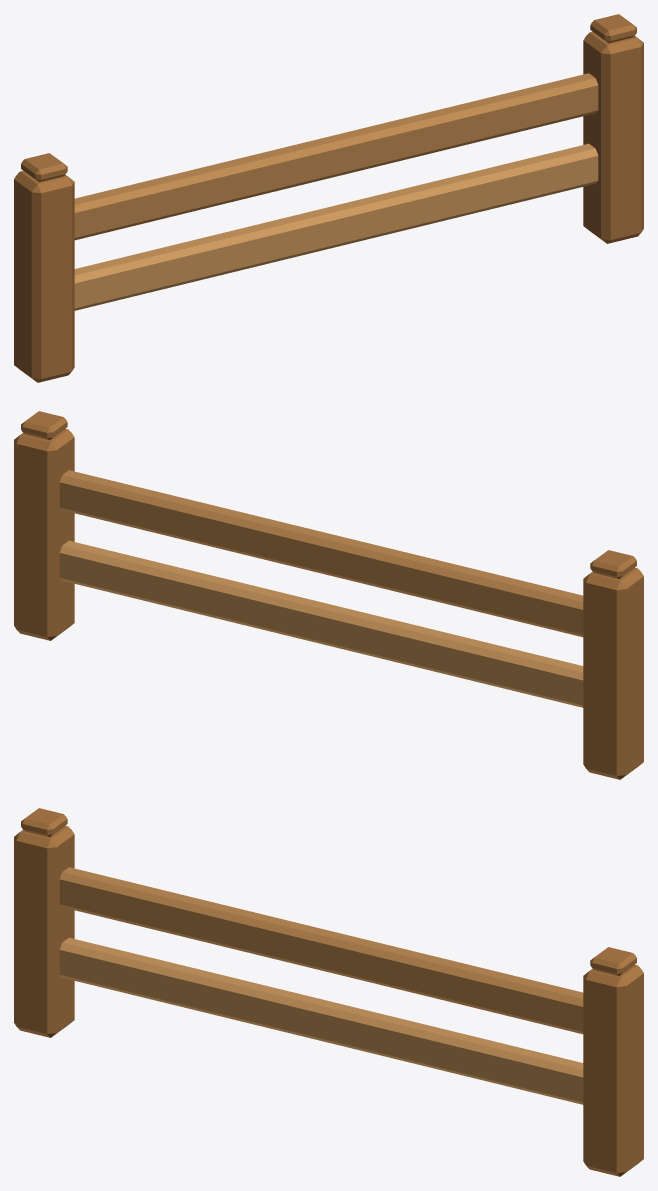
File: low_wood_fence_2m.glb
3 renders of one model, top to bottom at view 1: azimuth 30°, elevation 25°; view 2: azimuth 150°, elevation 25°; view 3: azimuth 330°, elevation 25°, orthographic.
Visible parts, largest first — view 1: low_wood_fence_2m; view 2: low_wood_fence_2m; view 3: low_wood_fence_2m.
Part boxes in pixels (x1,y1,x2,y2): low_wood_fence_2m: (14,14,643,382); low_wood_fence_2m: (14,411,643,779); low_wood_fence_2m: (14,808,643,1176).
Bounding box in the file's own units: 2 × 0.66 × 0.14.
